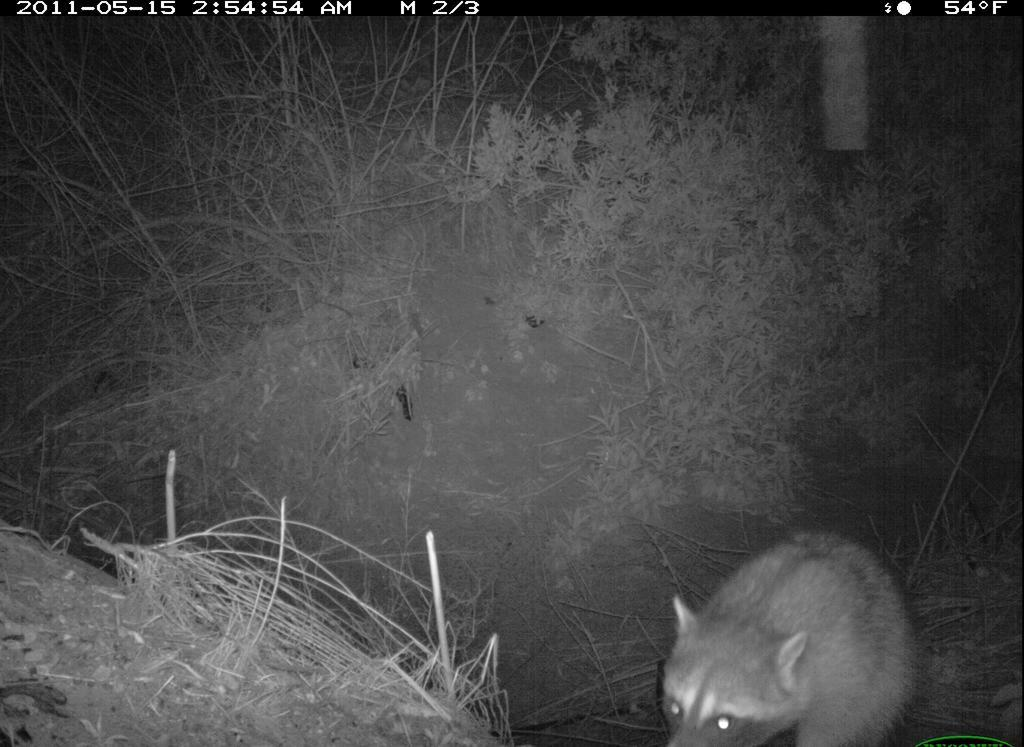raccoon: (644, 523, 931, 747)
